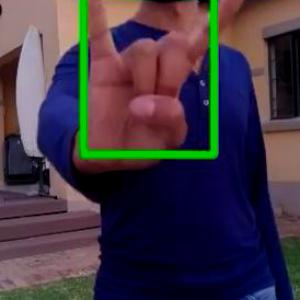takeoff-hand: (79, 0, 254, 174)
